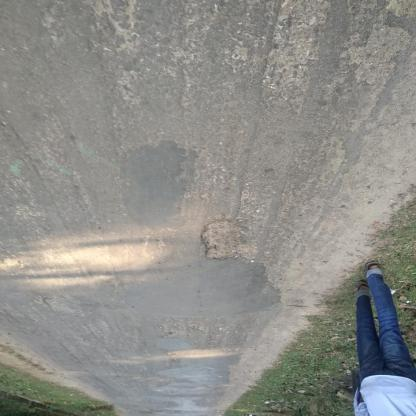pothole: (200, 216, 258, 266)
